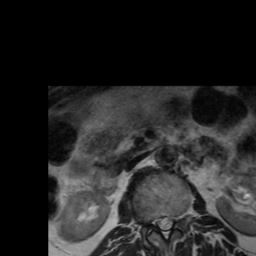CCS_normal: (162, 206, 168, 246)
LFS_stenosis: (175, 206, 182, 229)
LLS_normal: (168, 208, 175, 236)
RFS_severe_stenosis: (147, 207, 154, 233)
RLS_stenosis: (154, 208, 162, 236)
